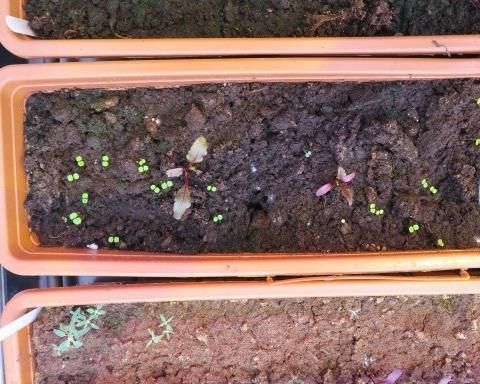crop: (311, 164, 356, 207)
weed: (347, 305, 362, 320), (66, 210, 82, 224), (63, 171, 81, 181), (73, 153, 85, 167), (405, 221, 419, 233), (159, 178, 173, 189), (208, 212, 223, 222), (99, 153, 109, 167), (148, 182, 159, 194), (104, 234, 120, 242), (80, 190, 89, 204), (135, 163, 148, 172), (204, 183, 218, 191), (418, 176, 428, 187), (427, 183, 437, 193), (135, 156, 145, 165), (436, 236, 444, 247)
